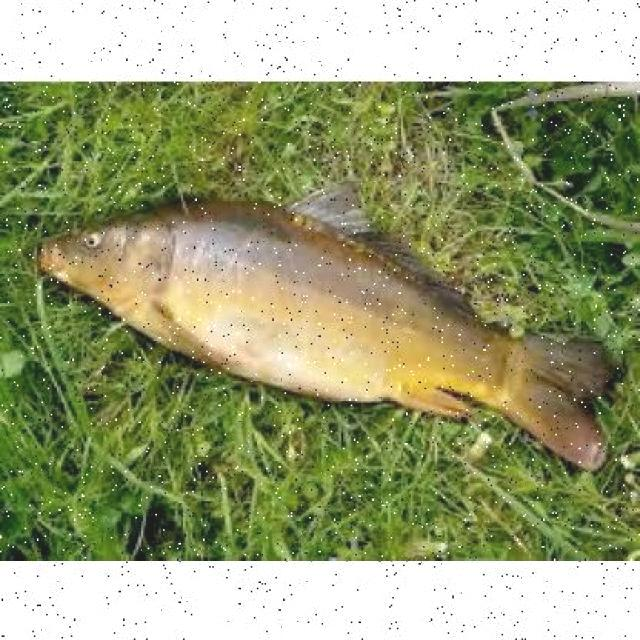ikan-mas: (32, 195, 602, 463)
